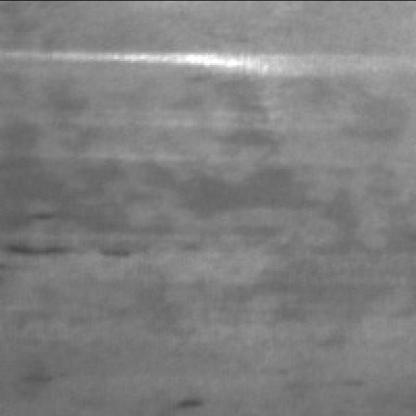scratches: (7, 42, 343, 70)
